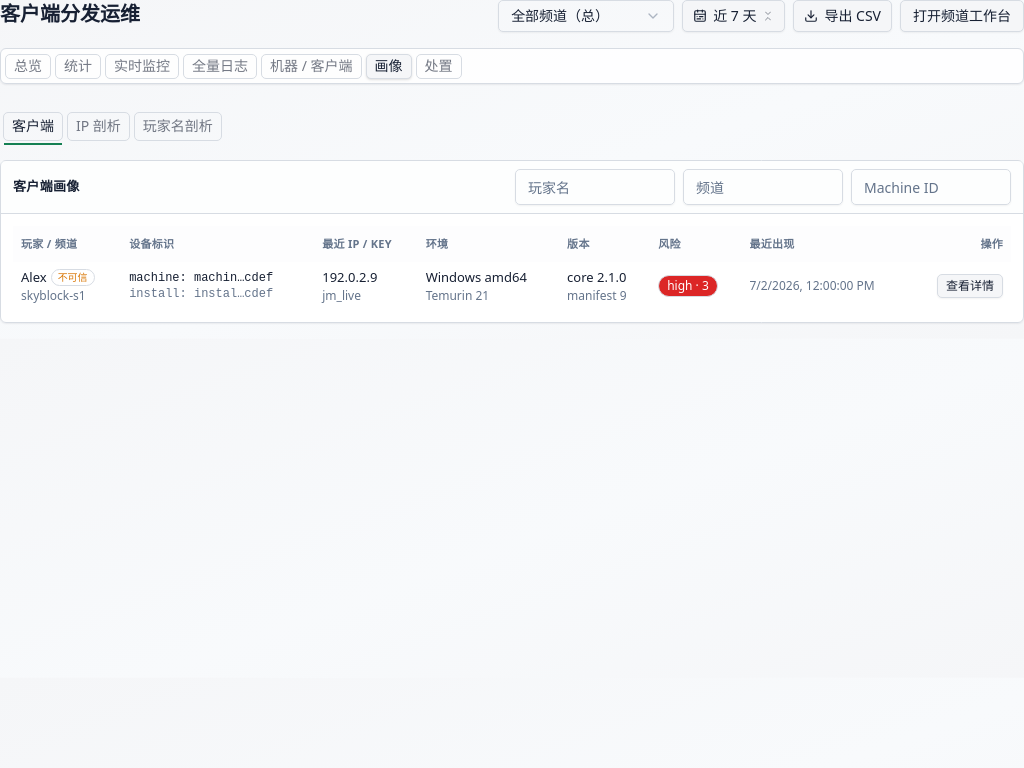
Test: ProtectionCenterPage（页面 B · 安全侧） › 画像详情展示脱敏字段、环境信息与风险时间线
Step 1. Click the button "查看详情" → (970, 286), box [937,274,1003,298]
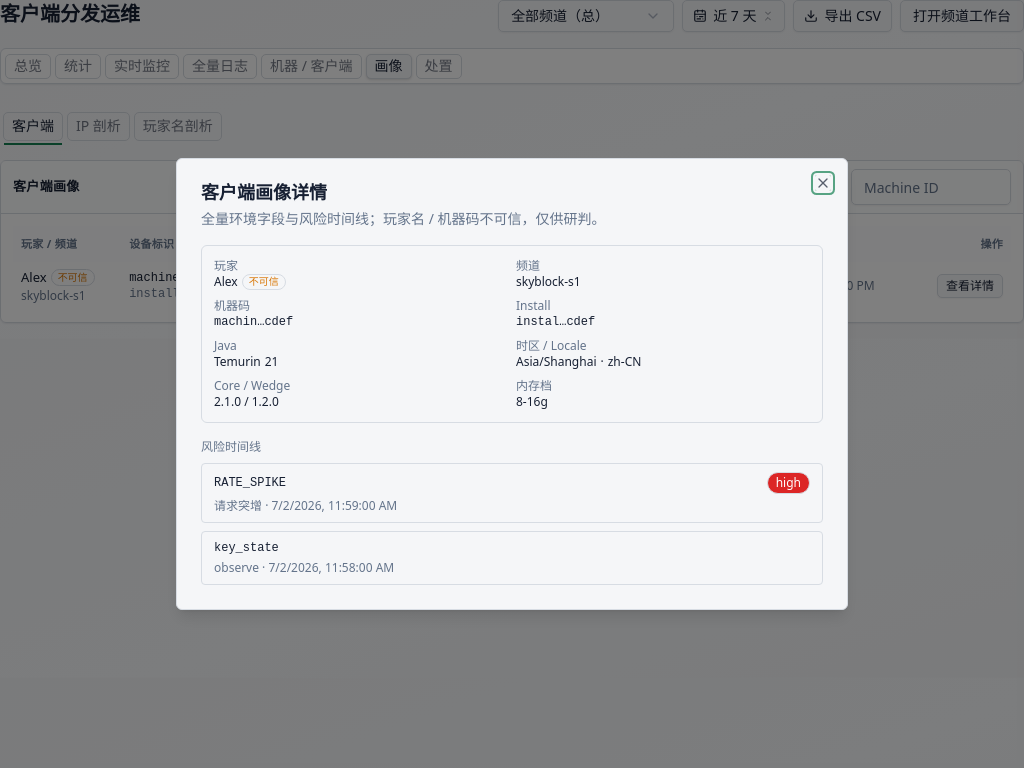
Expected: the text "Temurin" is shown, [214,353,261,370]
Expected: the text "Asia/Shanghai" is shown, [516,353,596,370]
Expected: the text "不可信" is shown, [242,274,286,290]
